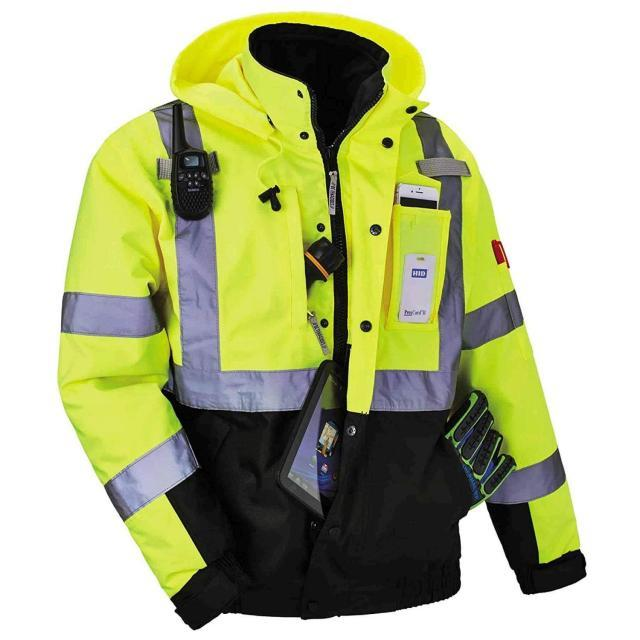construction-vest: (52, 6, 592, 632)
